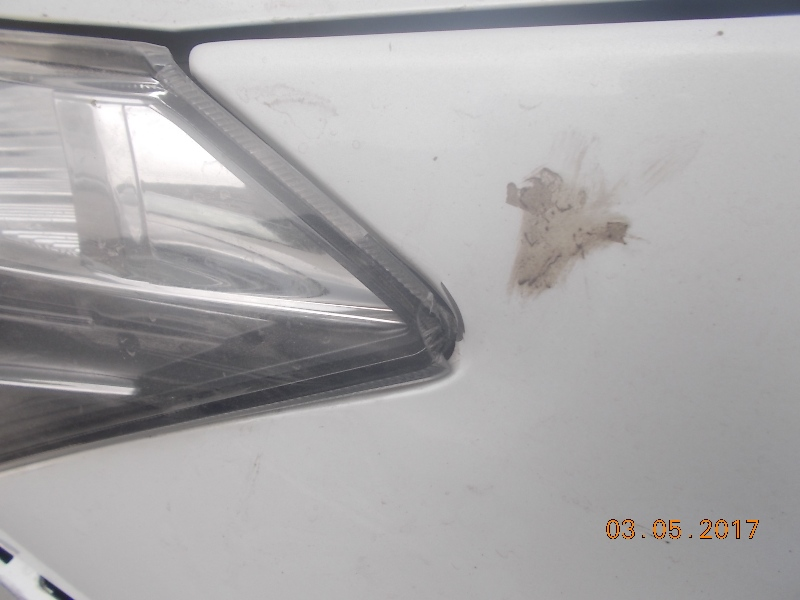Scratch_or_spot: (497, 161, 618, 301)
